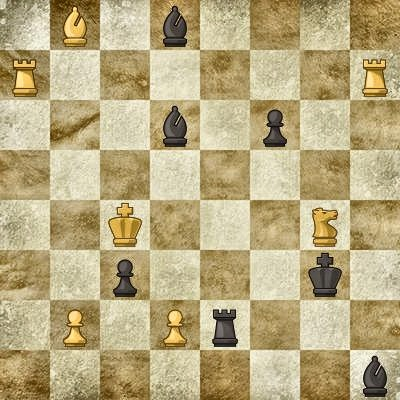black-bishop: (150, 0, 200, 50), (150, 100, 200, 150), (350, 350, 400, 400)
black-king: (300, 250, 350, 300)
black-pawn: (250, 100, 300, 150), (100, 250, 150, 300)
black-rook: (200, 300, 250, 350)
white-bishop: (50, 0, 100, 50)
white-king: (100, 200, 150, 250)
white-knight: (300, 200, 350, 250)
white-pawn: (50, 300, 100, 350), (150, 300, 200, 350)
white-rook: (0, 50, 50, 100), (350, 50, 400, 100)
